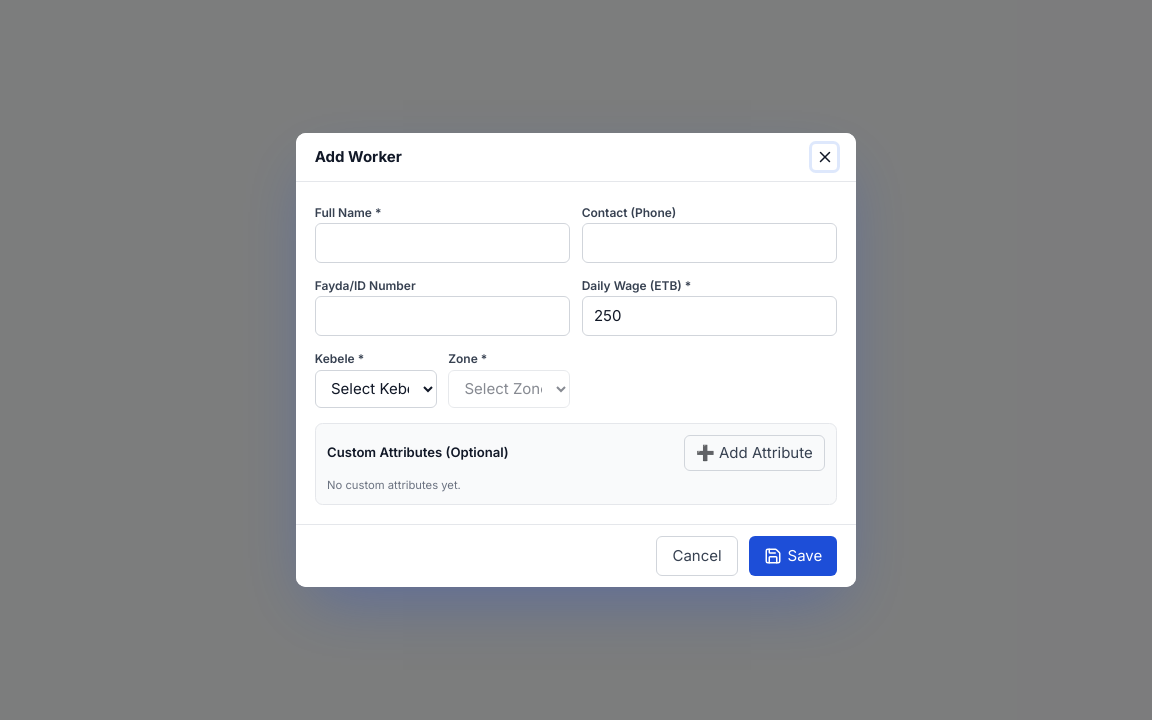
Test: Worker form validation (real component) › rejects an invalid Fayda id (not 12 digits)
Type "New Worker" into the field labelled "Full Name *" at (443, 243), box [315,223,570,263]
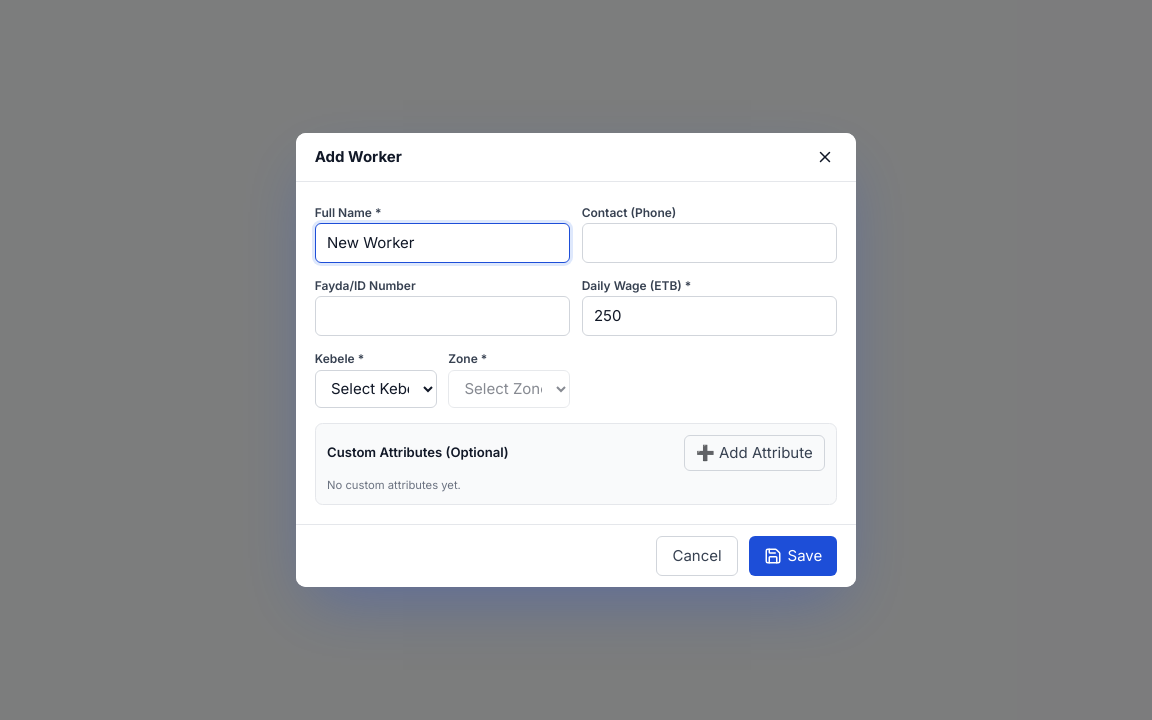
Replace the text in the number field labelled "Daily Wage (ETB) *" with "200" at (709, 316), box [582,296,837,336]
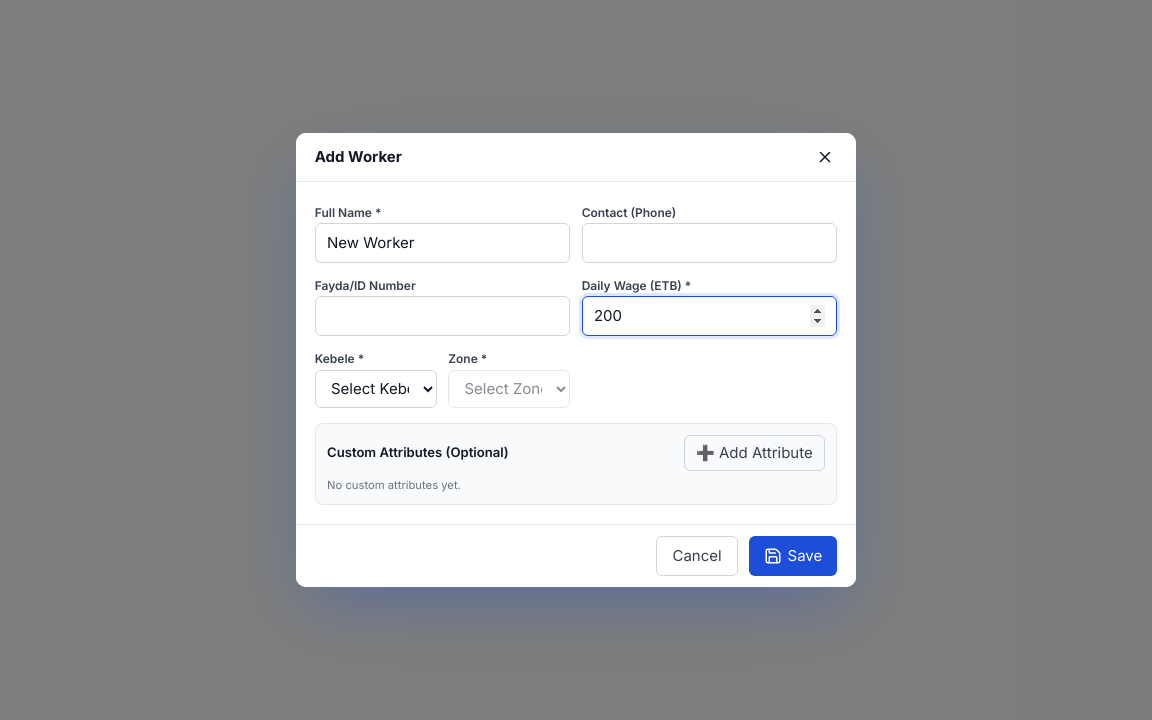
Type "12345" into the field labelled "Fayda/ID Number" at (443, 316), box [315,296,570,336]
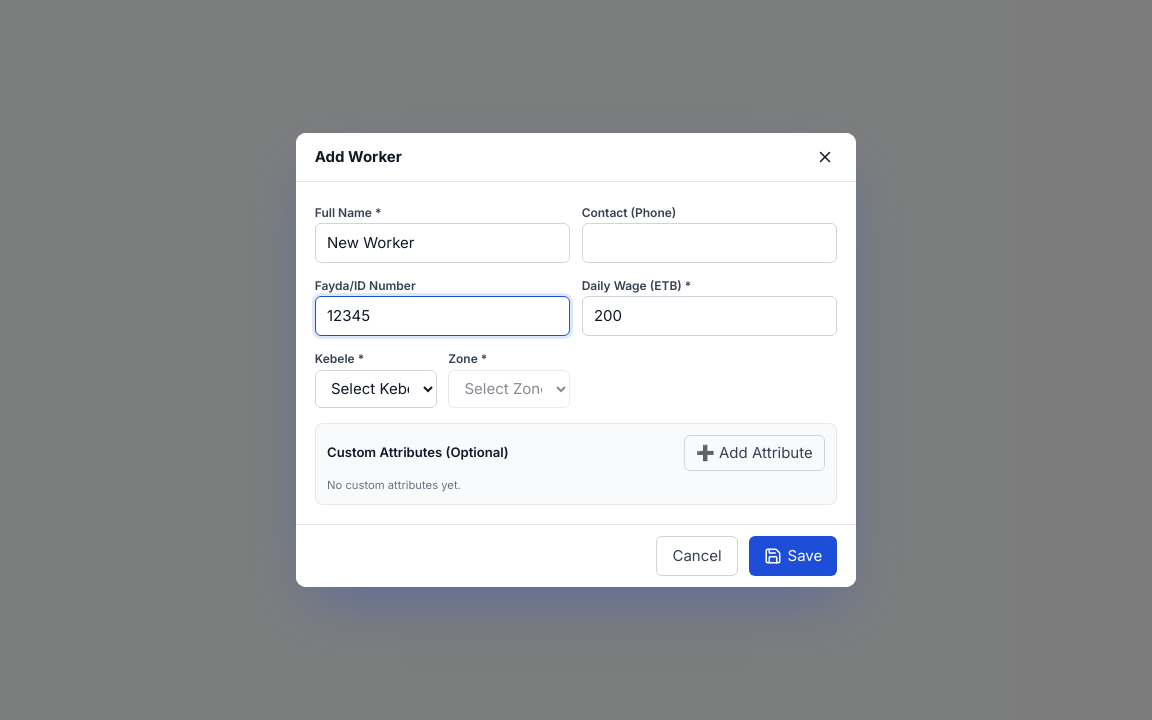
Click the button "Save" at (793, 556), box [749,536,837,576]
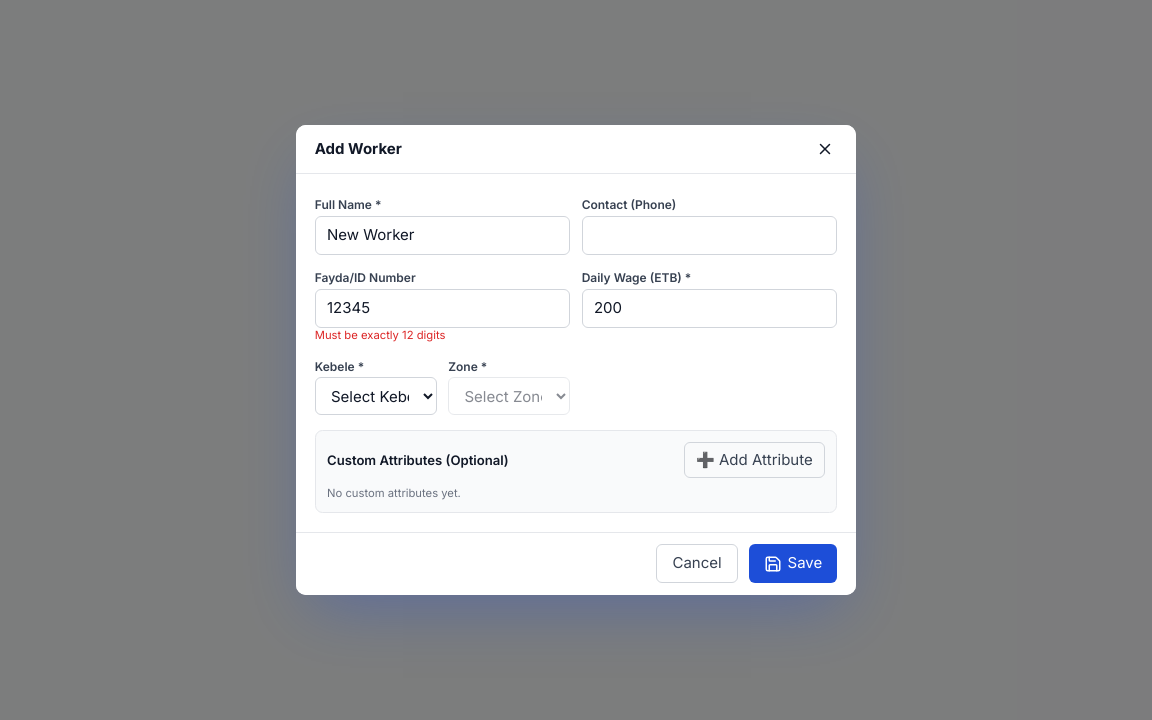
Expected: the text "Must be exactly 12 digits" is shown, [315,328,446,342]
